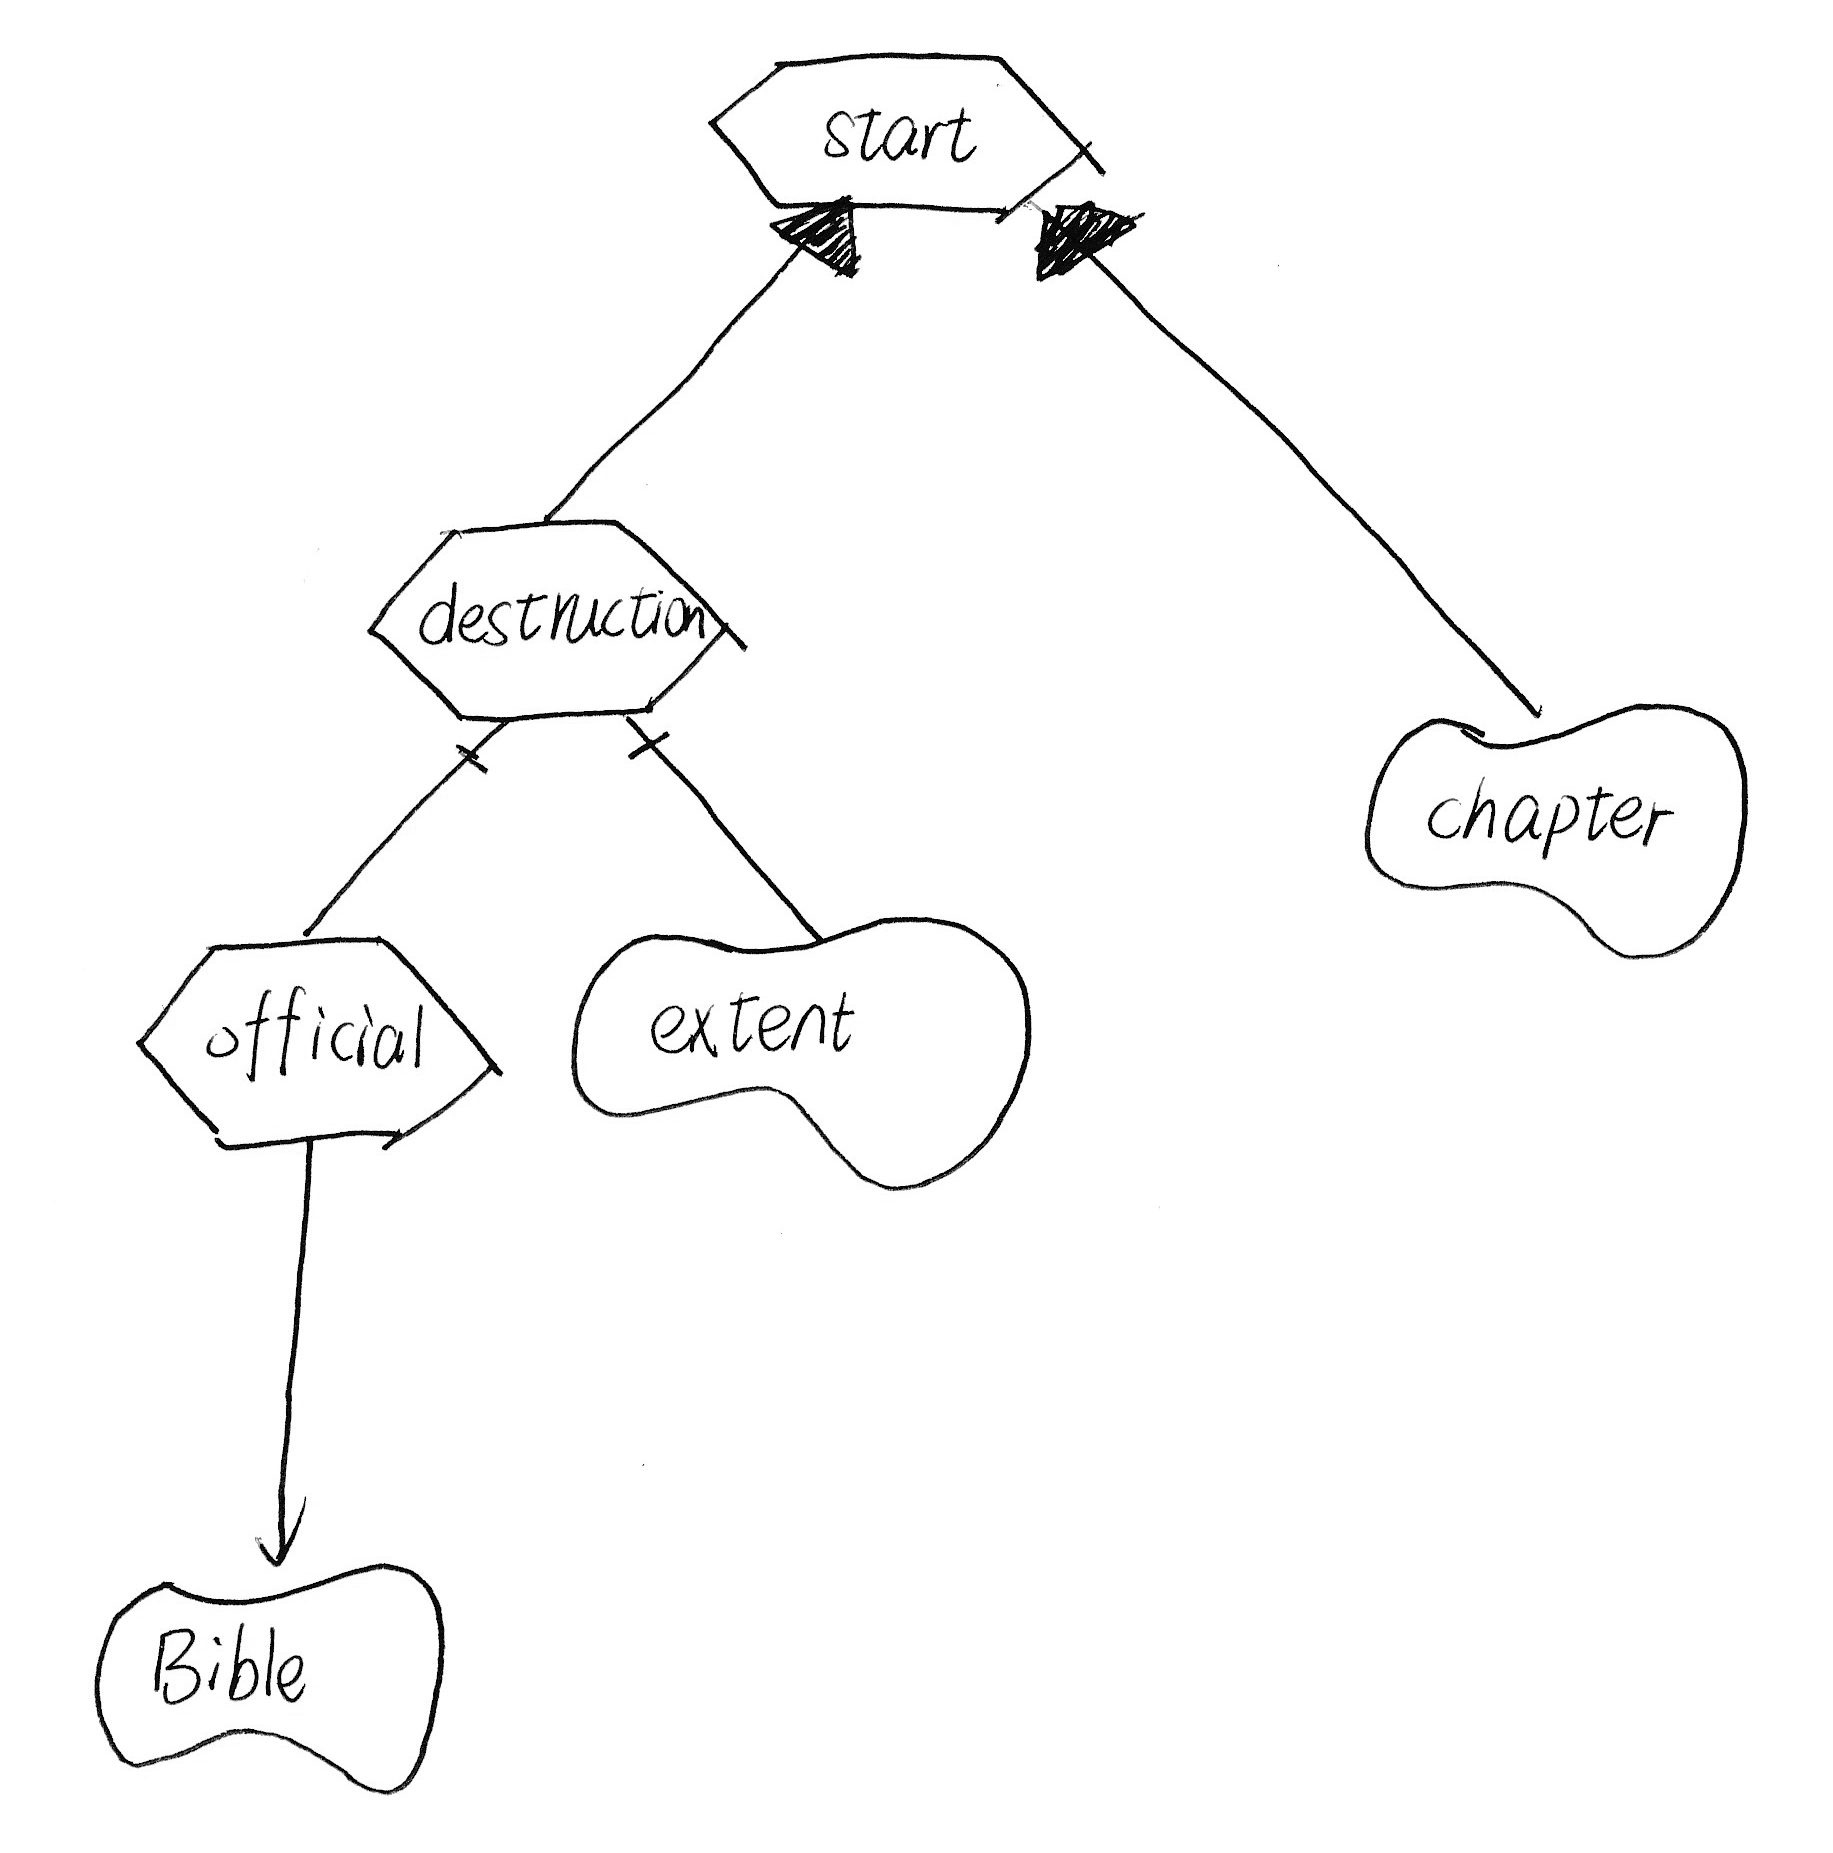and: (445, 703, 519, 787), (613, 705, 683, 780)
arrow: (248, 1485, 319, 1578)
or: (1017, 191, 1151, 290), (760, 181, 885, 285)
quality: (552, 893, 1054, 1203), (1339, 681, 1773, 980), (72, 1537, 468, 1808)
task: (344, 495, 762, 742), (119, 916, 520, 1170), (693, 35, 1123, 240)
